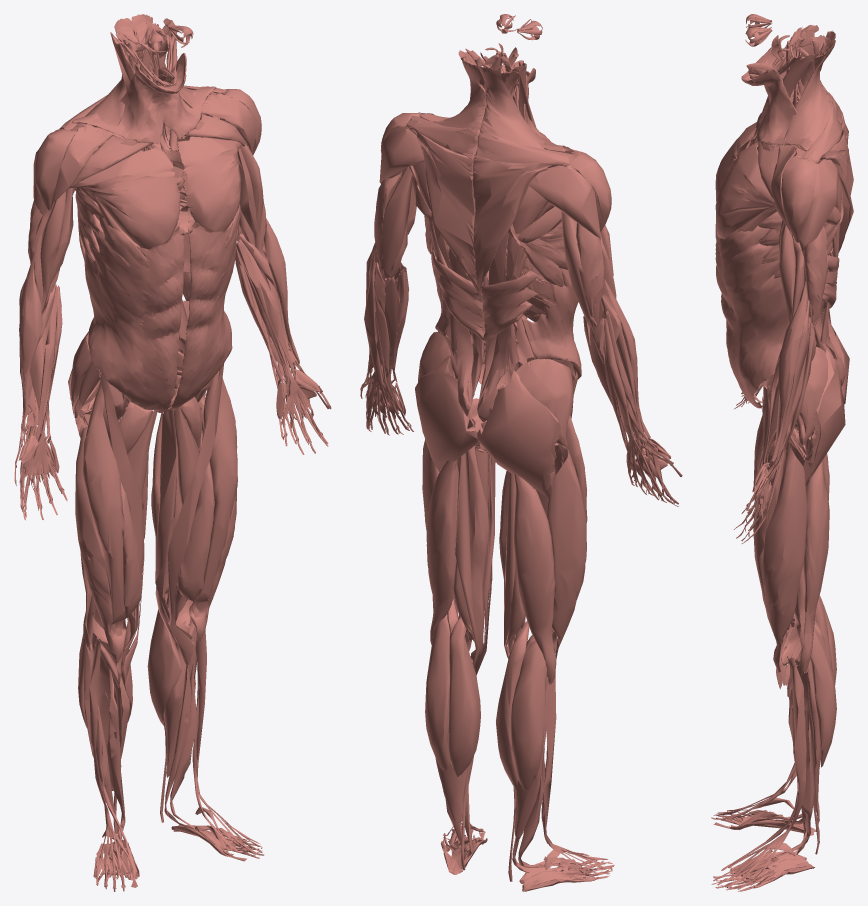
Rendered from bp3d-muscles-male.glb.
The picture shows the model from 3 angles, left to right: view 1: azimuth 30°, elevation 25°; view 2: azimuth 150°, elevation 25°; view 3: azimuth 270°, elevation 25°; orthographic projection.
Parts seen in each view (by area): view 1: Muscles; view 2: Muscles; view 3: Muscles.
Boxes of the visible parts, <box> form: Muscles: <box>14,14,331,891</box>; Muscles: <box>360,14,682,891</box>; Muscles: <box>711,14,853,891</box>.
Size of the model in its own units: 0.6388 by 1.61 by 0.2503.
